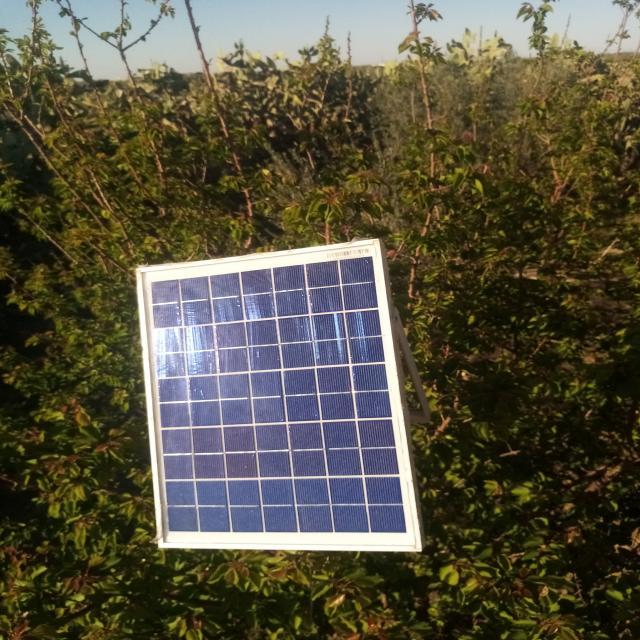no faulty: (136, 240, 419, 550)
